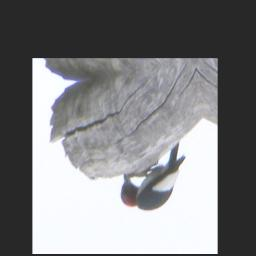Woodpecker: (112, 139, 195, 219)
